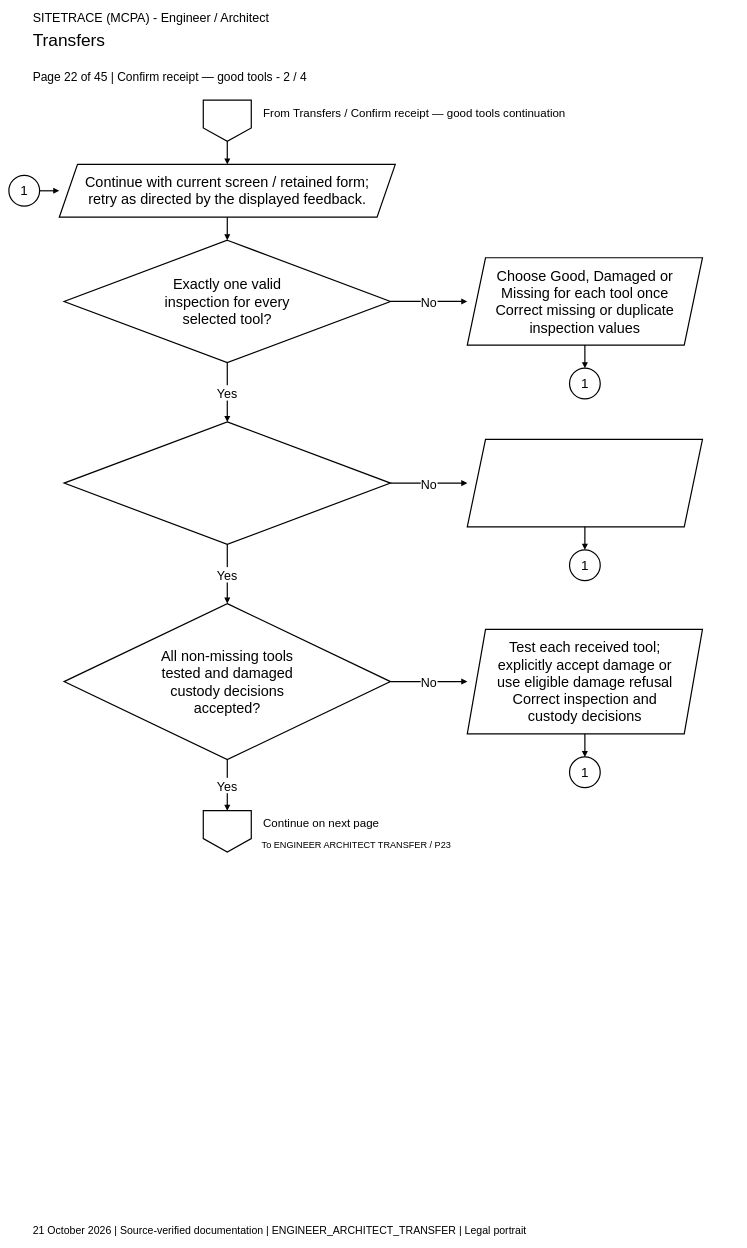
Image size: 747x1248. Some labels were removed from this diagram. The box of each missing label's shape, as (x1, y1, x2, y2) in pixels:
IU: (202, 99, 252, 142)
IV: (202, 810, 252, 852)
Notes supplied for damaged/missing tools, at most 2000 characters?: (63, 421, 391, 545)
Show inspection-note validation error Describe each damaged or missing tool: (466, 439, 703, 527)
